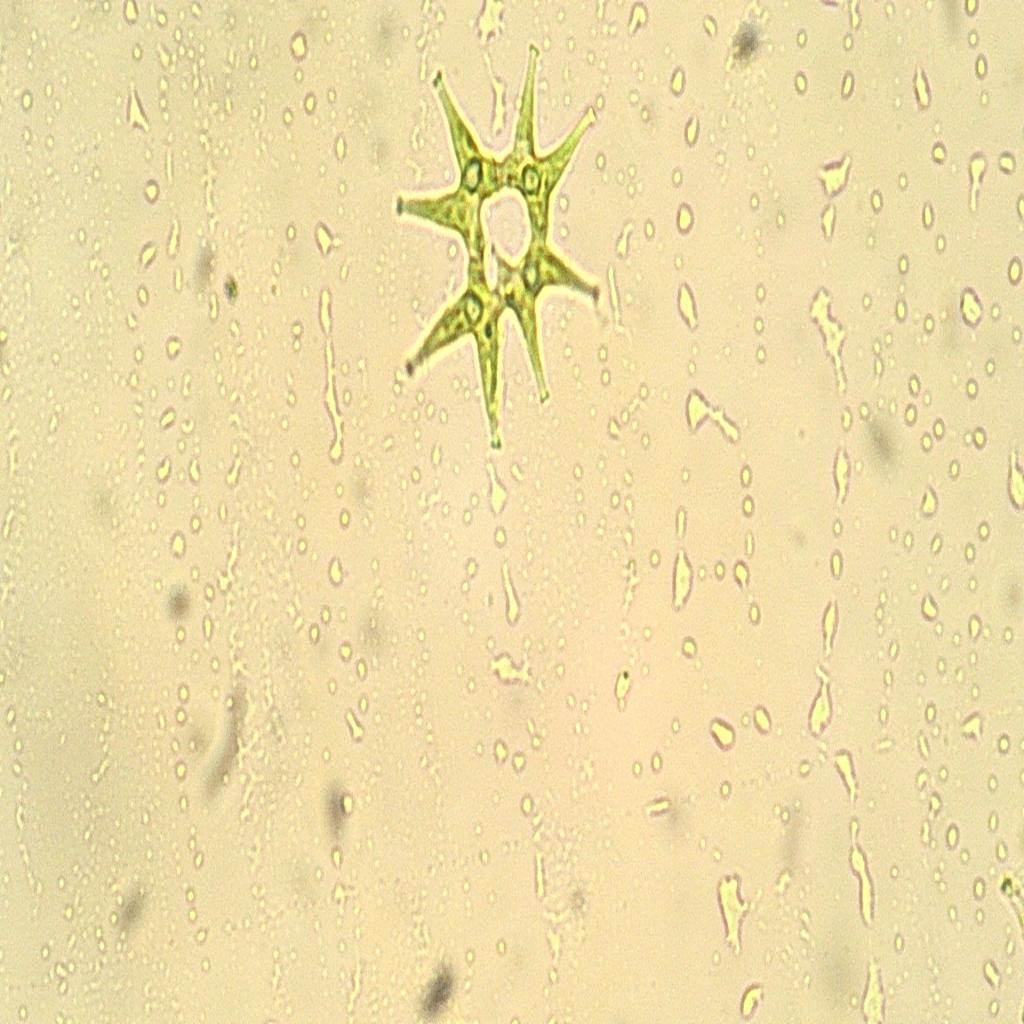Pediastrum_75FO: (388, 23, 610, 482)
